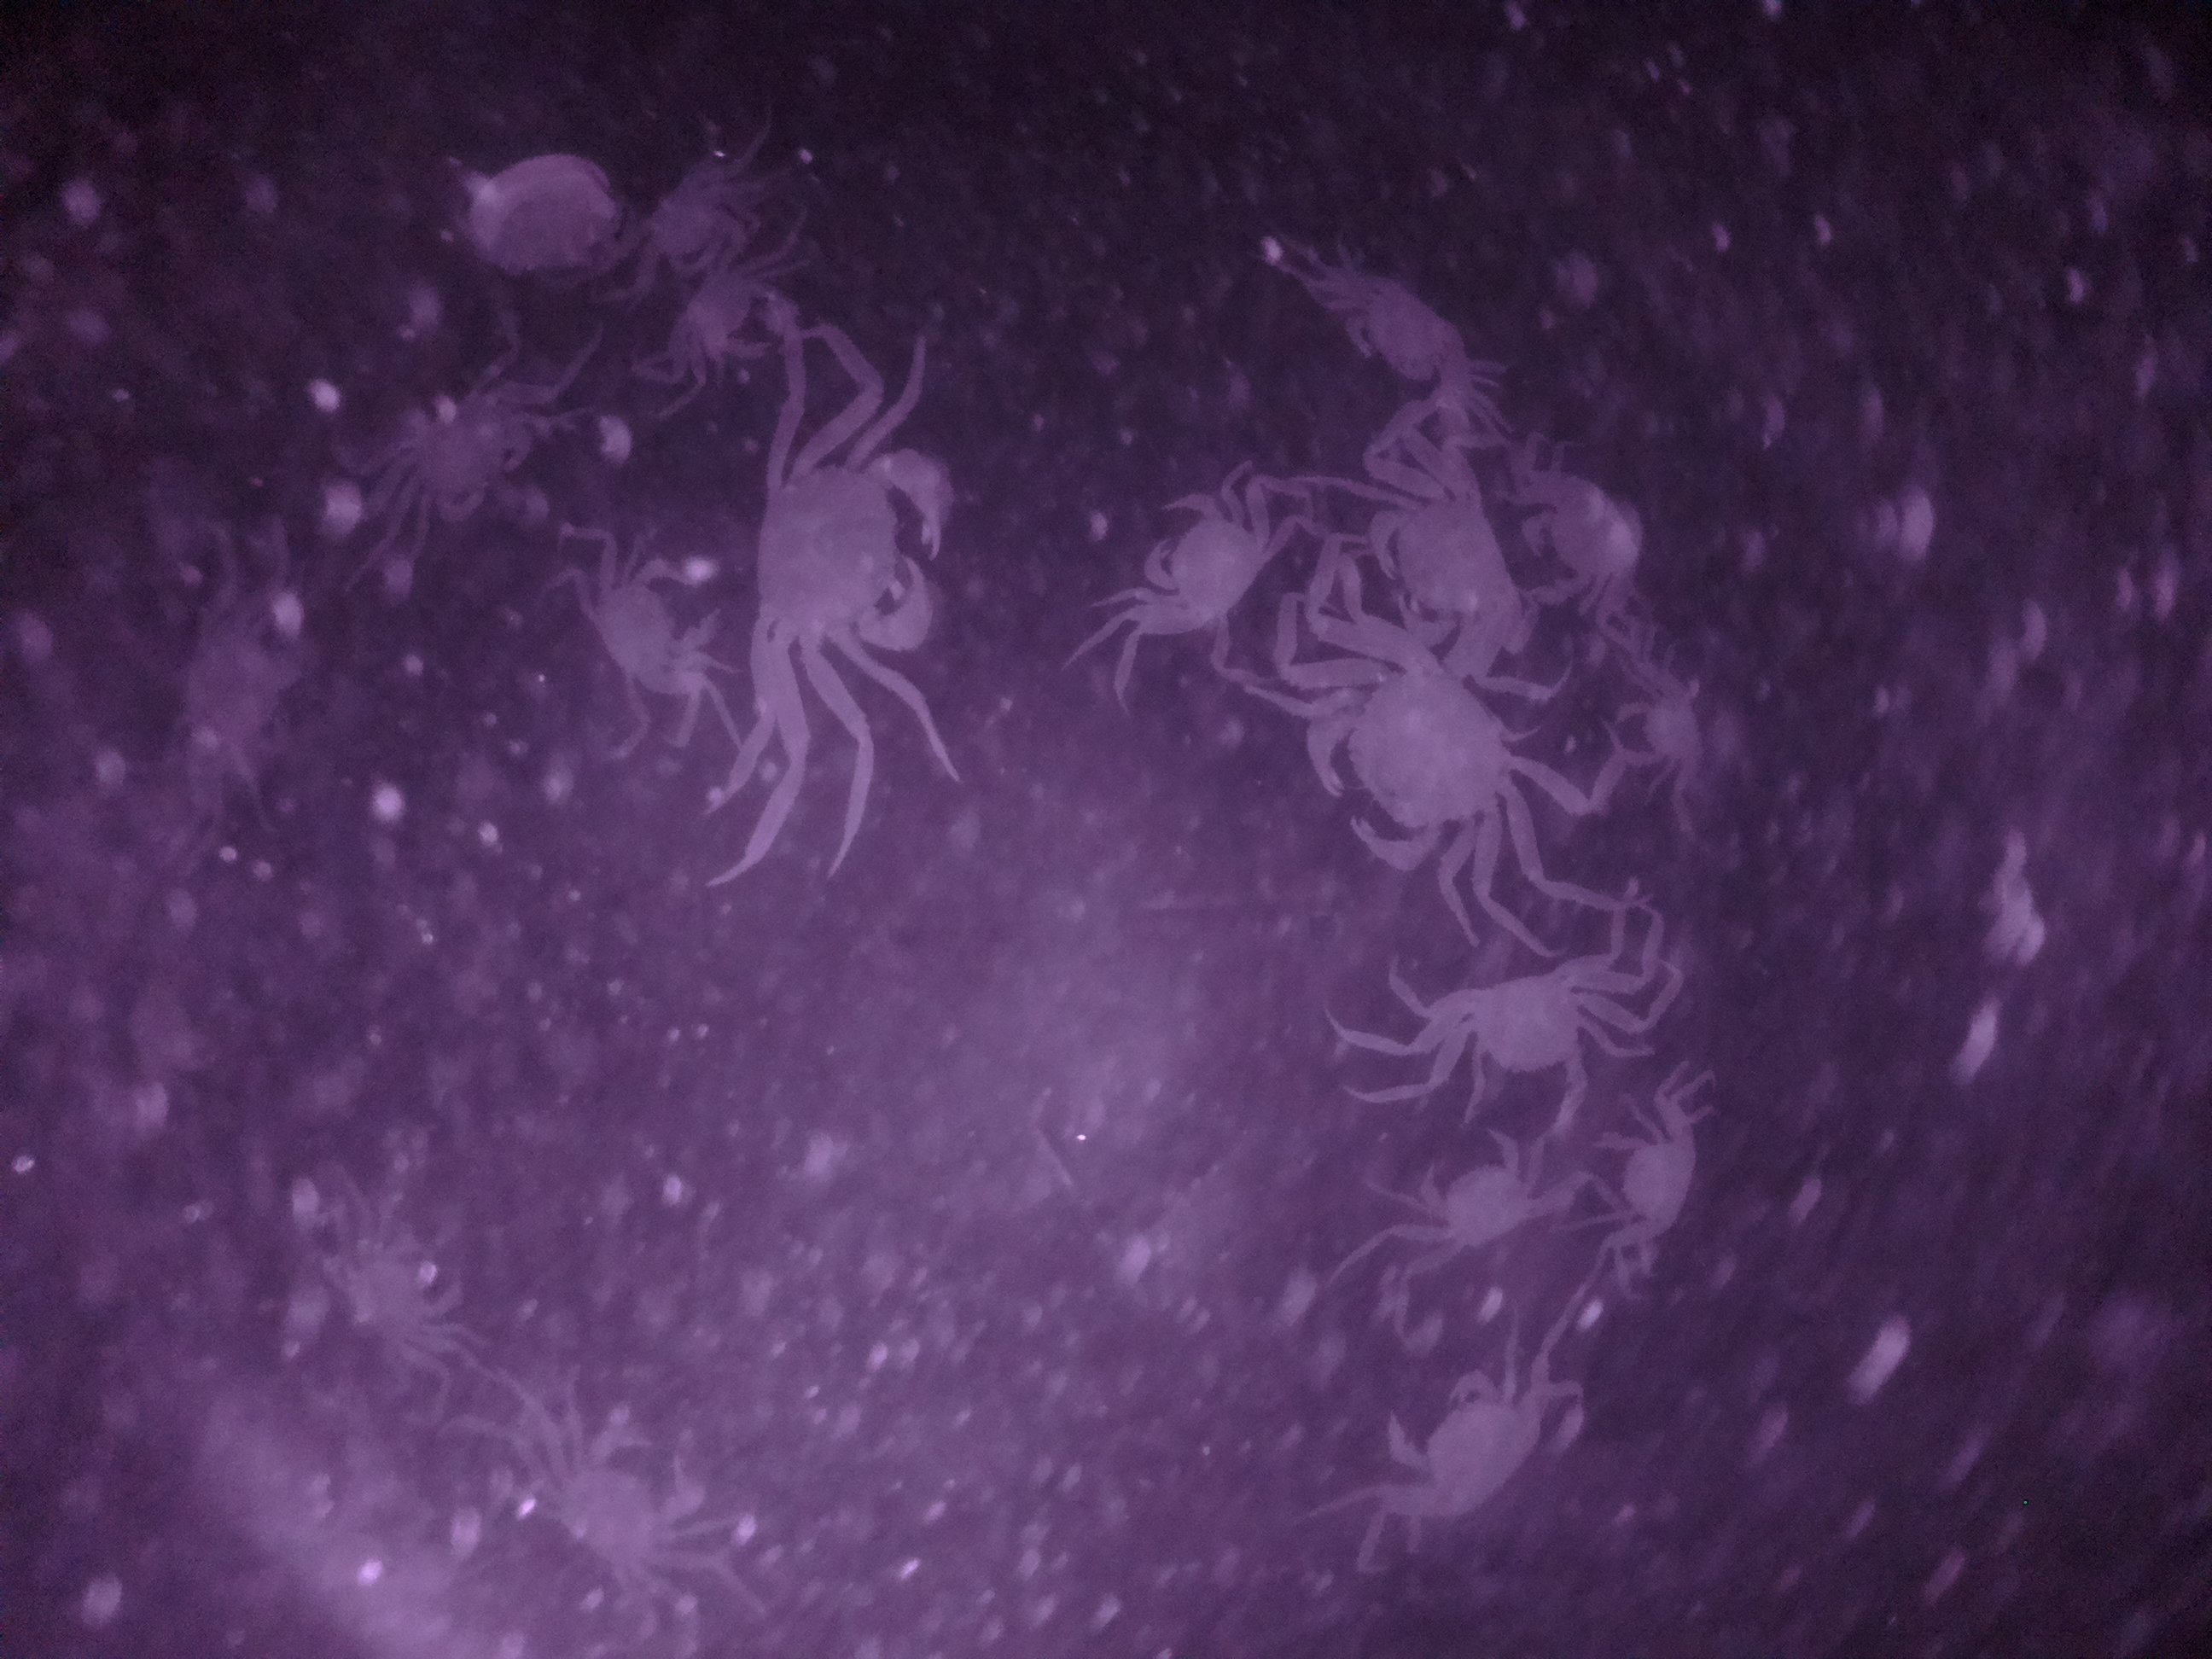Crab: (1282, 608, 1559, 894), (737, 399, 975, 669), (1407, 927, 1620, 1107), (1371, 1363, 1573, 1530), (1291, 247, 1505, 399), (561, 519, 723, 720), (1104, 472, 1289, 643), (660, 213, 817, 396), (1583, 1117, 1745, 1263), (1406, 1121, 1550, 1274), (1602, 660, 1731, 784)
